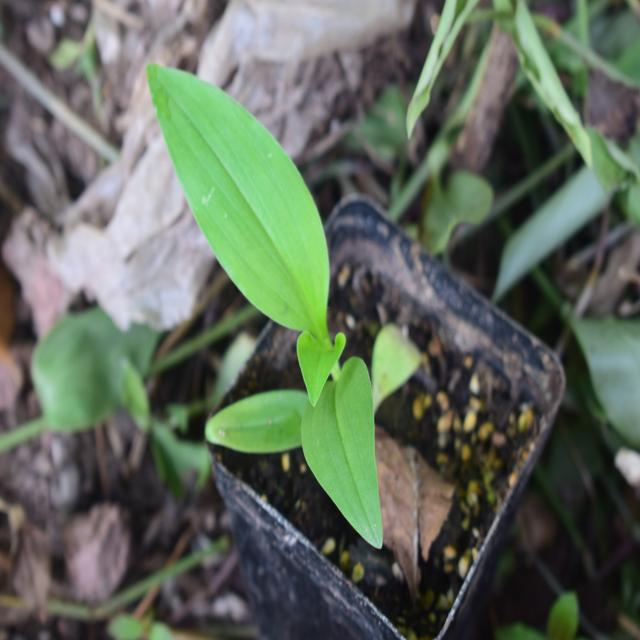Common Dayflower: (149, 55, 418, 559)
